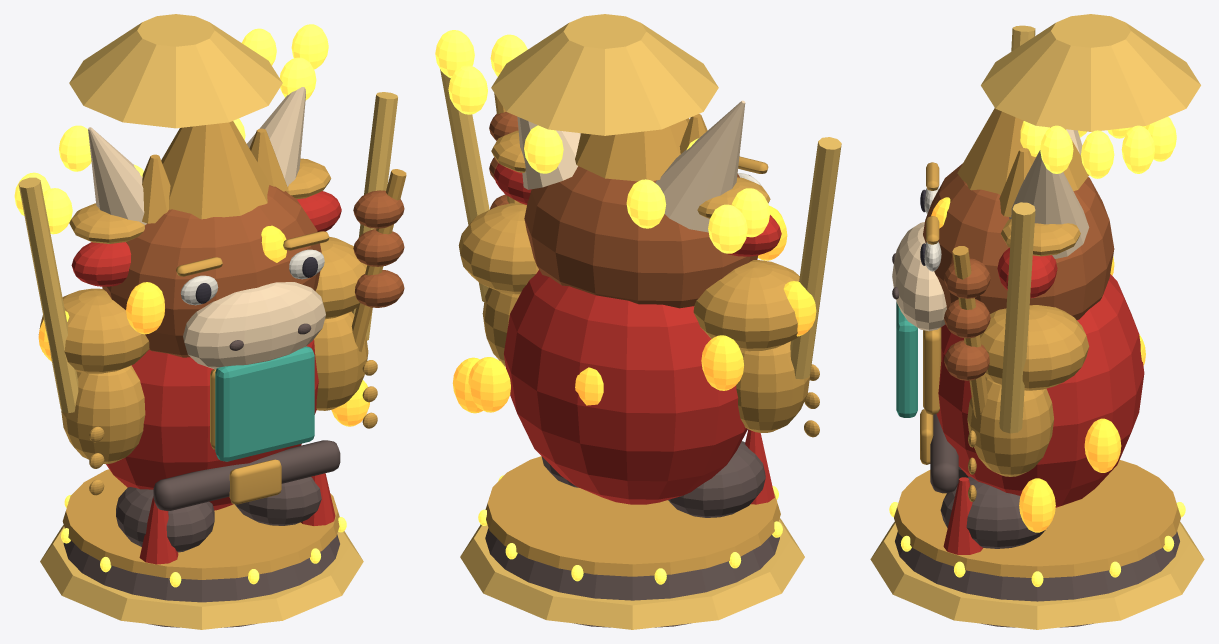
Rendered from 11-night-market-king.glb.
3 renders of one model, left to right at view 1: azimuth 30°, elevation 25°; view 2: azimuth 150°, elevation 25°; view 3: azimuth 270°, elevation 25°, orthographic. The views are drawn at different scales.
Visible parts, largest first — view 1: premium-ox batched gilded metal, final king halo base, premium-ox batched caramel roast, premium-ox batched carved base, premium-ox batched lacquer red, premium-ox batched warm ivory, champion breast crest, king halo ember, premium-ox batched magical ember, premium-ox batched cream fur, premium-ox batched ink fur; view 2: premium-ox batched gilded metal, premium-ox batched lacquer red, final king halo base, premium-ox batched caramel roast, premium-ox batched carved base, king halo ember, premium-ox batched warm ivory, premium-ox batched magical ember; view 3: premium-ox batched gilded metal, final king halo base, premium-ox batched lacquer red, premium-ox batched caramel roast, premium-ox batched carved base, premium-ox batched warm ivory, king halo ember, premium-ox batched magical ember, champion breast crest, premium-ox batched cream fur.
Boxes of the visible parts, bbox=[...] form: premium-ox batched gilded metal: bbox=[38, 121, 406, 579]; final king halo base: bbox=[18, 14, 397, 629]; premium-ox batched caramel roast: bbox=[102, 185, 404, 357]; premium-ox batched carved base: bbox=[63, 323, 340, 627]; premium-ox batched lacquer red: bbox=[71, 191, 341, 564]; premium-ox batched warm ivory: bbox=[88, 87, 325, 369]; champion breast crest: bbox=[215, 346, 314, 461]; king halo ember: bbox=[14, 24, 346, 587]; premium-ox batched magical ember: bbox=[38, 225, 369, 426]; premium-ox batched cream fur: bbox=[180, 249, 324, 305]; premium-ox batched ink fur: bbox=[195, 257, 317, 303]; premium-ox batched gilded metal: bbox=[458, 93, 819, 576]; premium-ox batched lacquer red: bbox=[494, 163, 781, 504]; final king halo base: bbox=[440, 14, 841, 629]; premium-ox batched caramel roast: bbox=[489, 112, 758, 308]; premium-ox batched carved base: bbox=[485, 429, 779, 627]; king halo ember: bbox=[435, 30, 782, 584]; premium-ox batched warm ivory: bbox=[517, 100, 745, 232]; premium-ox batched magical ember: bbox=[452, 205, 816, 413]; premium-ox batched gilded metal: bbox=[894, 108, 1180, 577]; final king halo base: bbox=[870, 14, 1204, 629]; premium-ox batched lacquer red: bbox=[936, 247, 1144, 554]; premium-ox batched caramel roast: bbox=[923, 163, 1114, 380]; premium-ox batched carved base: bbox=[892, 253, 1179, 627]; premium-ox batched warm ivory: bbox=[892, 129, 1089, 331]; king halo ember: bbox=[889, 116, 1185, 586]; premium-ox batched magical ember: bbox=[931, 197, 1145, 532]; champion breast crest: bbox=[896, 302, 917, 417]; premium-ox batched cream fur: bbox=[924, 188, 941, 271].
Bounding box in the file's own units: 1.34 × 1.76 × 1.
